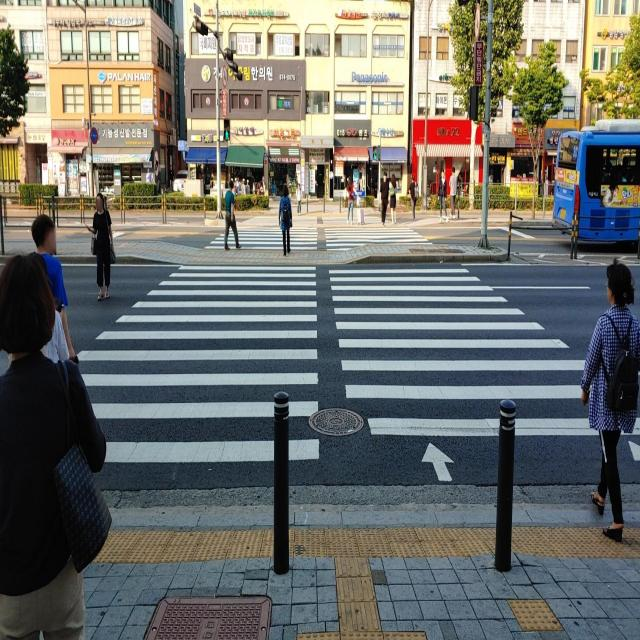횡단보도: (72, 260, 638, 487), (207, 221, 436, 248)
